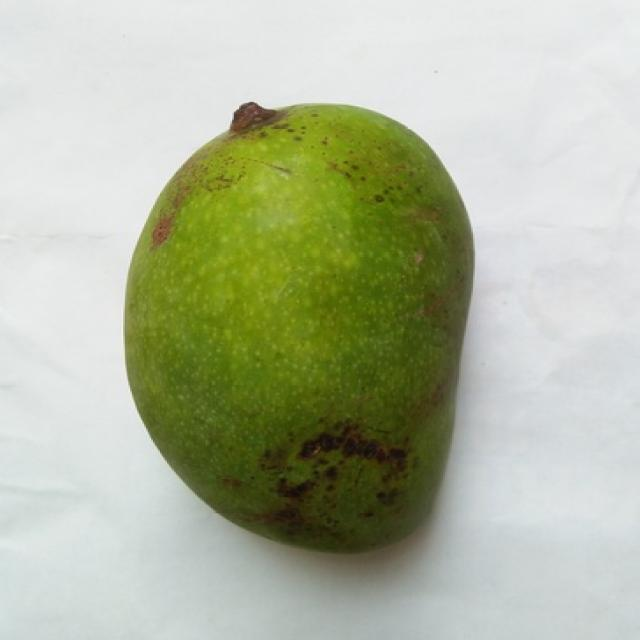Mango: (125, 105, 473, 551)
